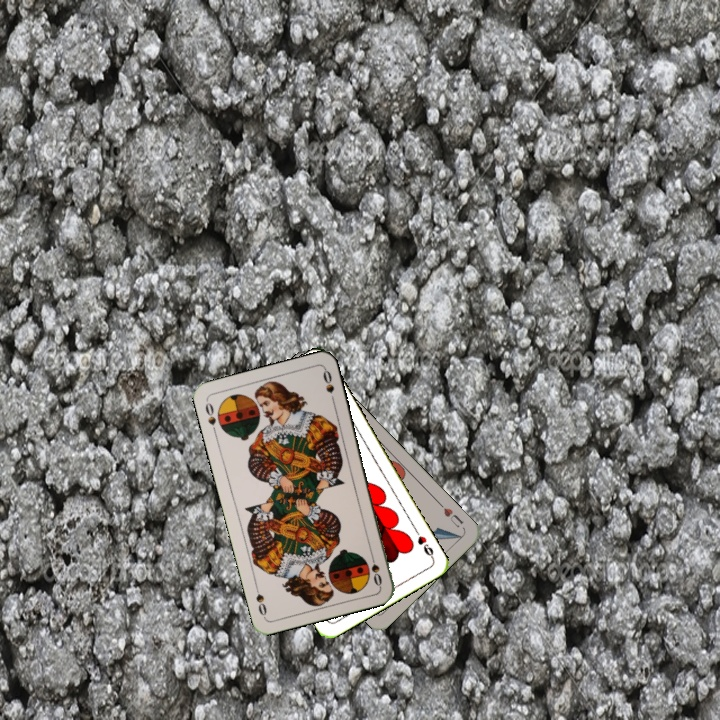H9: (410, 525, 437, 561)
HU: (435, 499, 466, 530)
SO: (366, 548, 384, 589), (201, 397, 219, 437)
